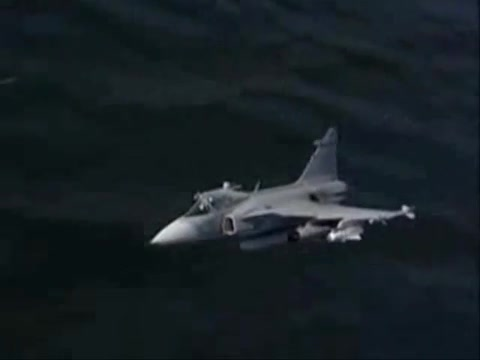aeroplane: (150, 128, 418, 252)
